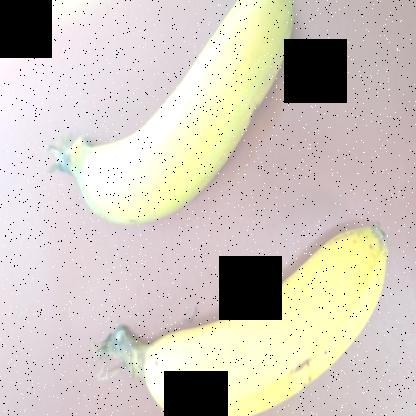freshripe: (72, 0, 310, 234), (129, 222, 412, 415)
